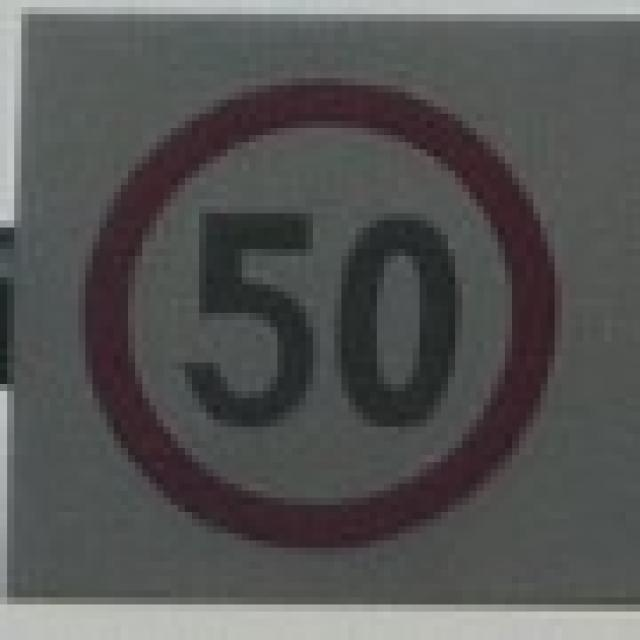Speed Limit -50-: (179, 206, 469, 434)
